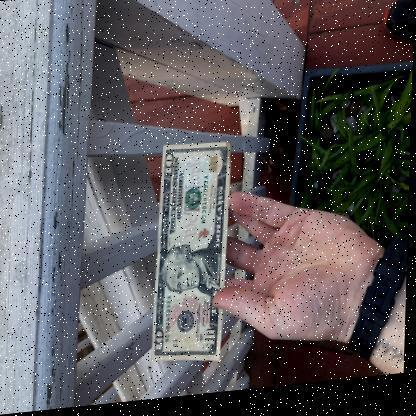dollar_front: (154, 145, 234, 366)
